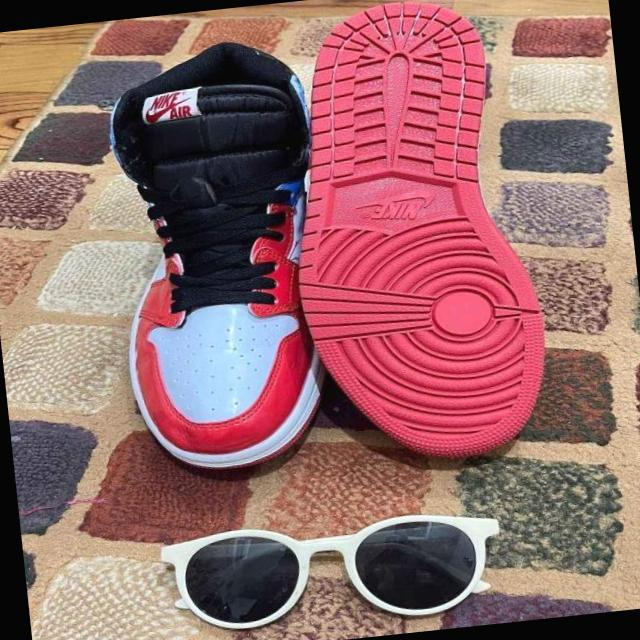nike_fake_jordan: (100, 33, 344, 478)
